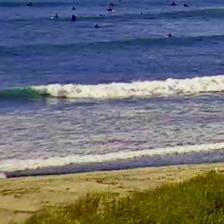surfer: (50, 13, 59, 20), (106, 6, 114, 12), (169, 1, 178, 6), (71, 14, 77, 21), (166, 33, 174, 38), (26, 2, 33, 7), (94, 24, 102, 28), (183, 3, 189, 8), (71, 5, 76, 10), (98, 13, 104, 17), (117, 0, 125, 2), (109, 3, 114, 6)
